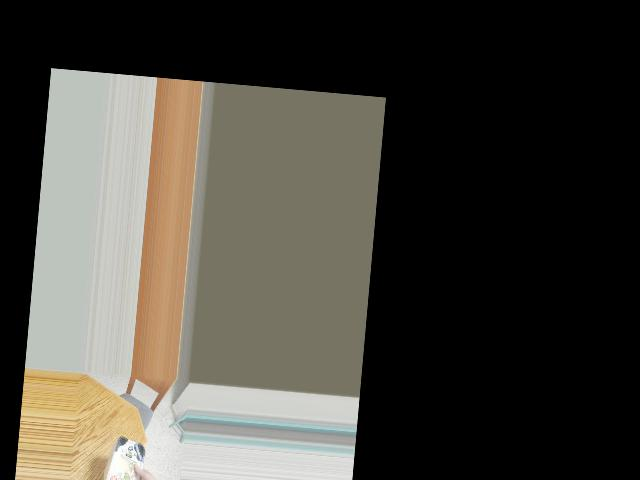cheese: (109, 434, 149, 480)
